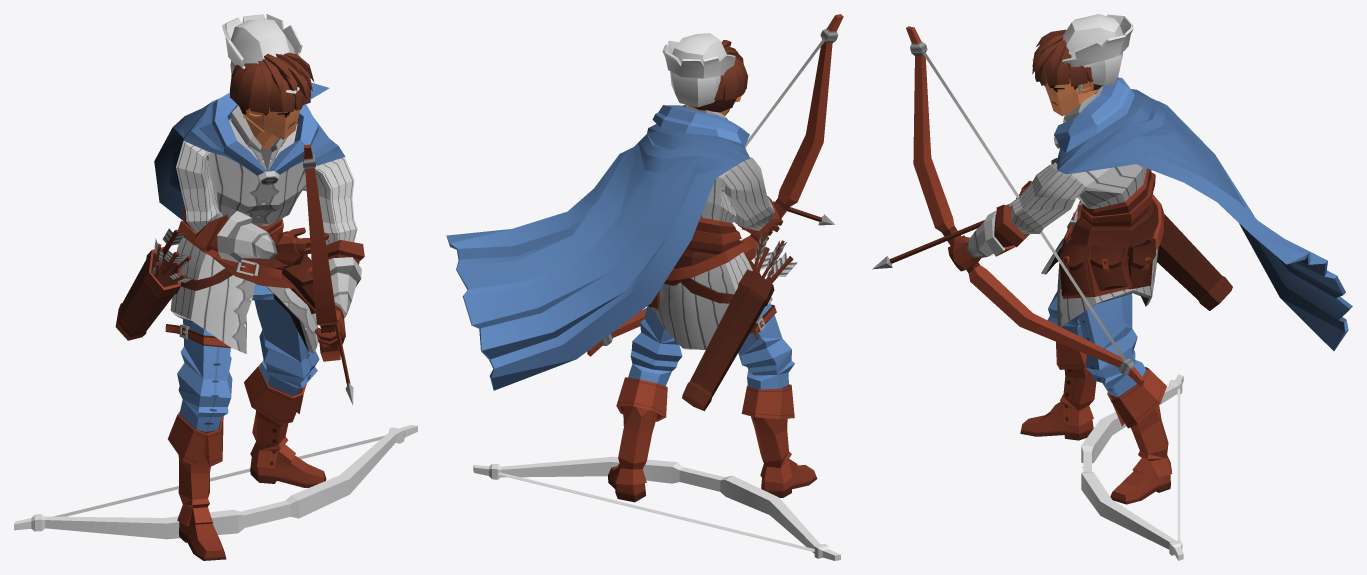
The model's file is M_Archer.glb.
3 renders of one model, left to right at view 1: azimuth 30°, elevation 25°; view 2: azimuth 150°, elevation 25°; view 3: azimuth 270°, elevation 25°, orthographic. The views are drawn at different scales.
Parts seen in each view (by area): view 1: M_Archer_prePosed, M_Archer_Bow, M_Archer_TyroleanHat; view 2: M_Archer_prePosed, M_Archer_Bow, M_Archer_TyroleanHat, M_hair_1; view 3: M_Archer_prePosed, M_Archer_Bow, M_Archer_TyroleanHat, M_hair_1.
Boxes of the visible parts, <box> form: M_Archer_prePosed: <box>115,52,364,560</box>; M_Archer_Bow: <box>14,425,417,539</box>; M_Archer_TyroleanHat: <box>222,14,302,93</box>; M_Archer_prePosed: <box>446,14,843,502</box>; M_Archer_Bow: <box>473,456,840,560</box>; M_Archer_TyroleanHat: <box>662,33,735,78</box>; M_hair_1: <box>670,71,720,107</box>; M_Archer_prePosed: <box>872,26,1352,504</box>; M_Archer_Bow: <box>1081,374,1183,560</box>; M_Archer_TyroleanHat: <box>1032,14,1133,67</box>; M_hair_1: <box>1083,52,1122,85</box>.
Size of the model in its own units: 1.8 by 2.12 by 2.02.
2 materials, 2 textured.
